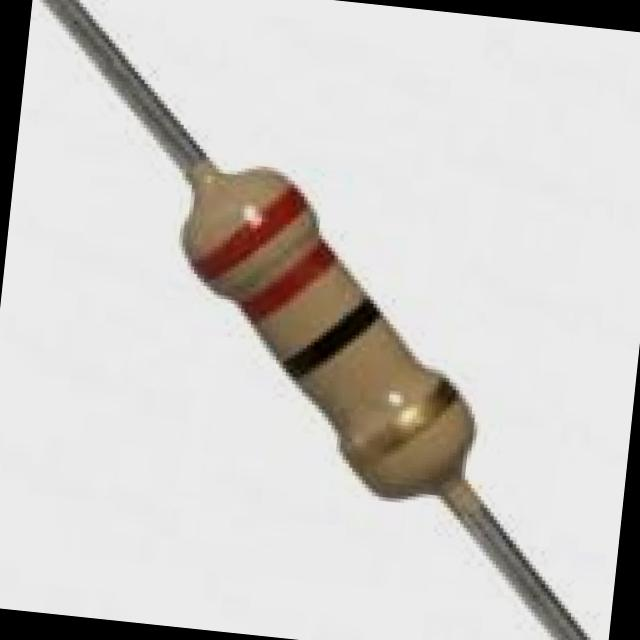Resistor: (179, 139, 505, 539)
black: (283, 300, 380, 377)
gold: (347, 379, 459, 462)
red: (195, 185, 307, 279), (241, 243, 334, 321)
